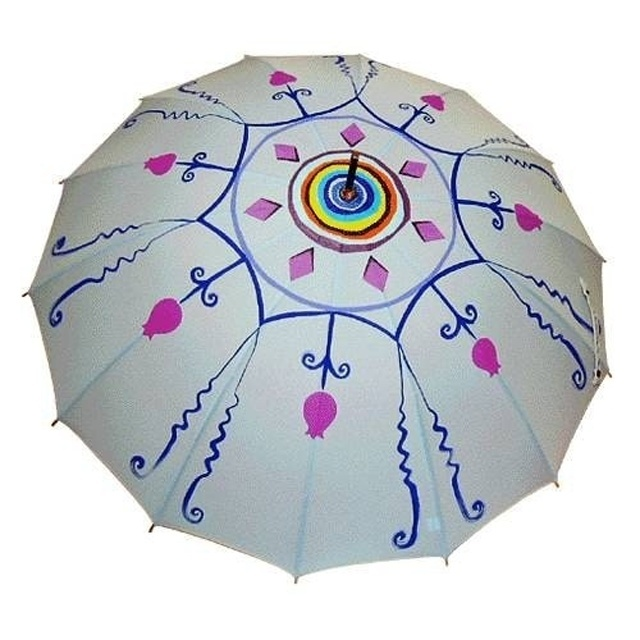umbrella: (18, 51, 615, 588)
